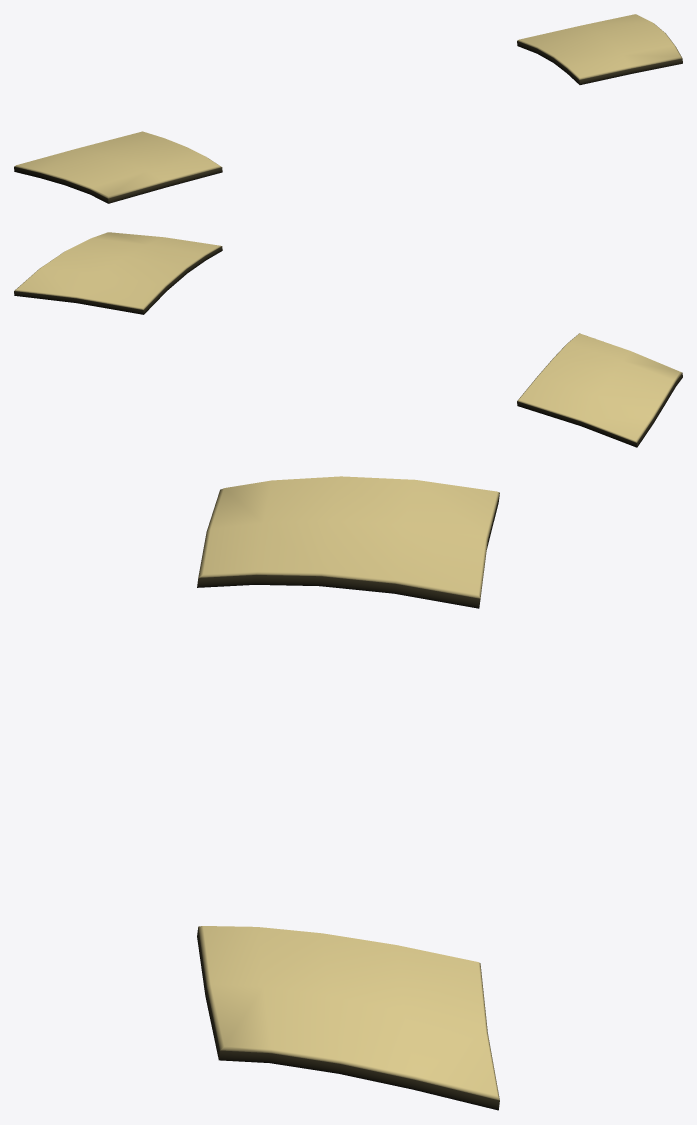
File: MX5_SquarePopUp_Duco.fbx
3 views of the same model, one above another, from view 1: azimuth 30°, elevation 25°; view 2: azimuth 150°, elevation 25°; view 3: azimuth 270°, elevation 25° (orthographic). The views are drawn at different scales.
Parts seen in each view (by area): view 1: MX5_SquarePopUp_Duco; view 2: MX5_SquarePopUp_Duco; view 3: MX5_SquarePopUp_Duco.
Boxes of the visible parts, x1,y1,x2,y2 form: MX5_SquarePopUp_Duco: (14, 14, 682, 203); MX5_SquarePopUp_Duco: (14, 232, 682, 447); MX5_SquarePopUp_Duco: (197, 476, 499, 1110).
Bounding box in the file's own units: 128 × 5.62 × 26.94.
